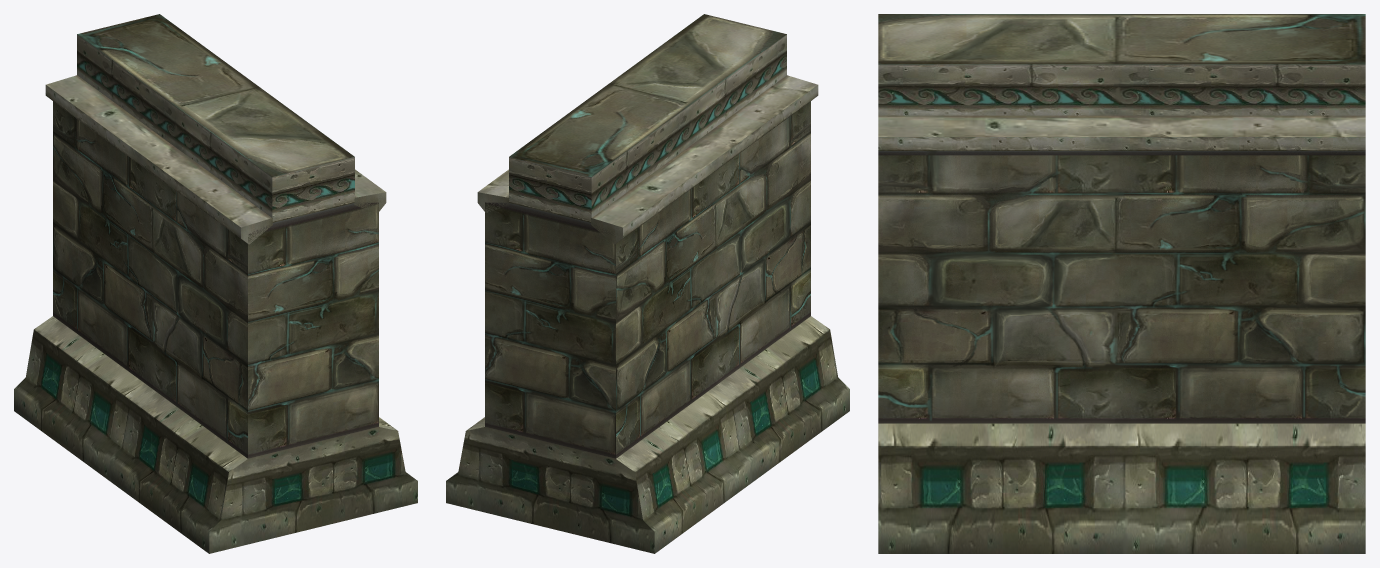
File: F_qiang001.fbx
The picture shows the model from 3 angles, left to right: view 1: azimuth 30°, elevation 25°; view 2: azimuth 150°, elevation 25°; view 3: azimuth 270°, elevation 25°; orthographic projection. The views are drawn at different scales.
Parts seen in each view (by area): view 1: F_qiang001; view 2: F_qiang001; view 3: F_qiang001.
Boxes of the visible parts, bbox=[...] form: F_qiang001: bbox=[14, 14, 417, 553]; F_qiang001: bbox=[446, 14, 849, 553]; F_qiang001: bbox=[878, 14, 1365, 553].
Bounding box in the file's own units: 136 × 225 × 220.
